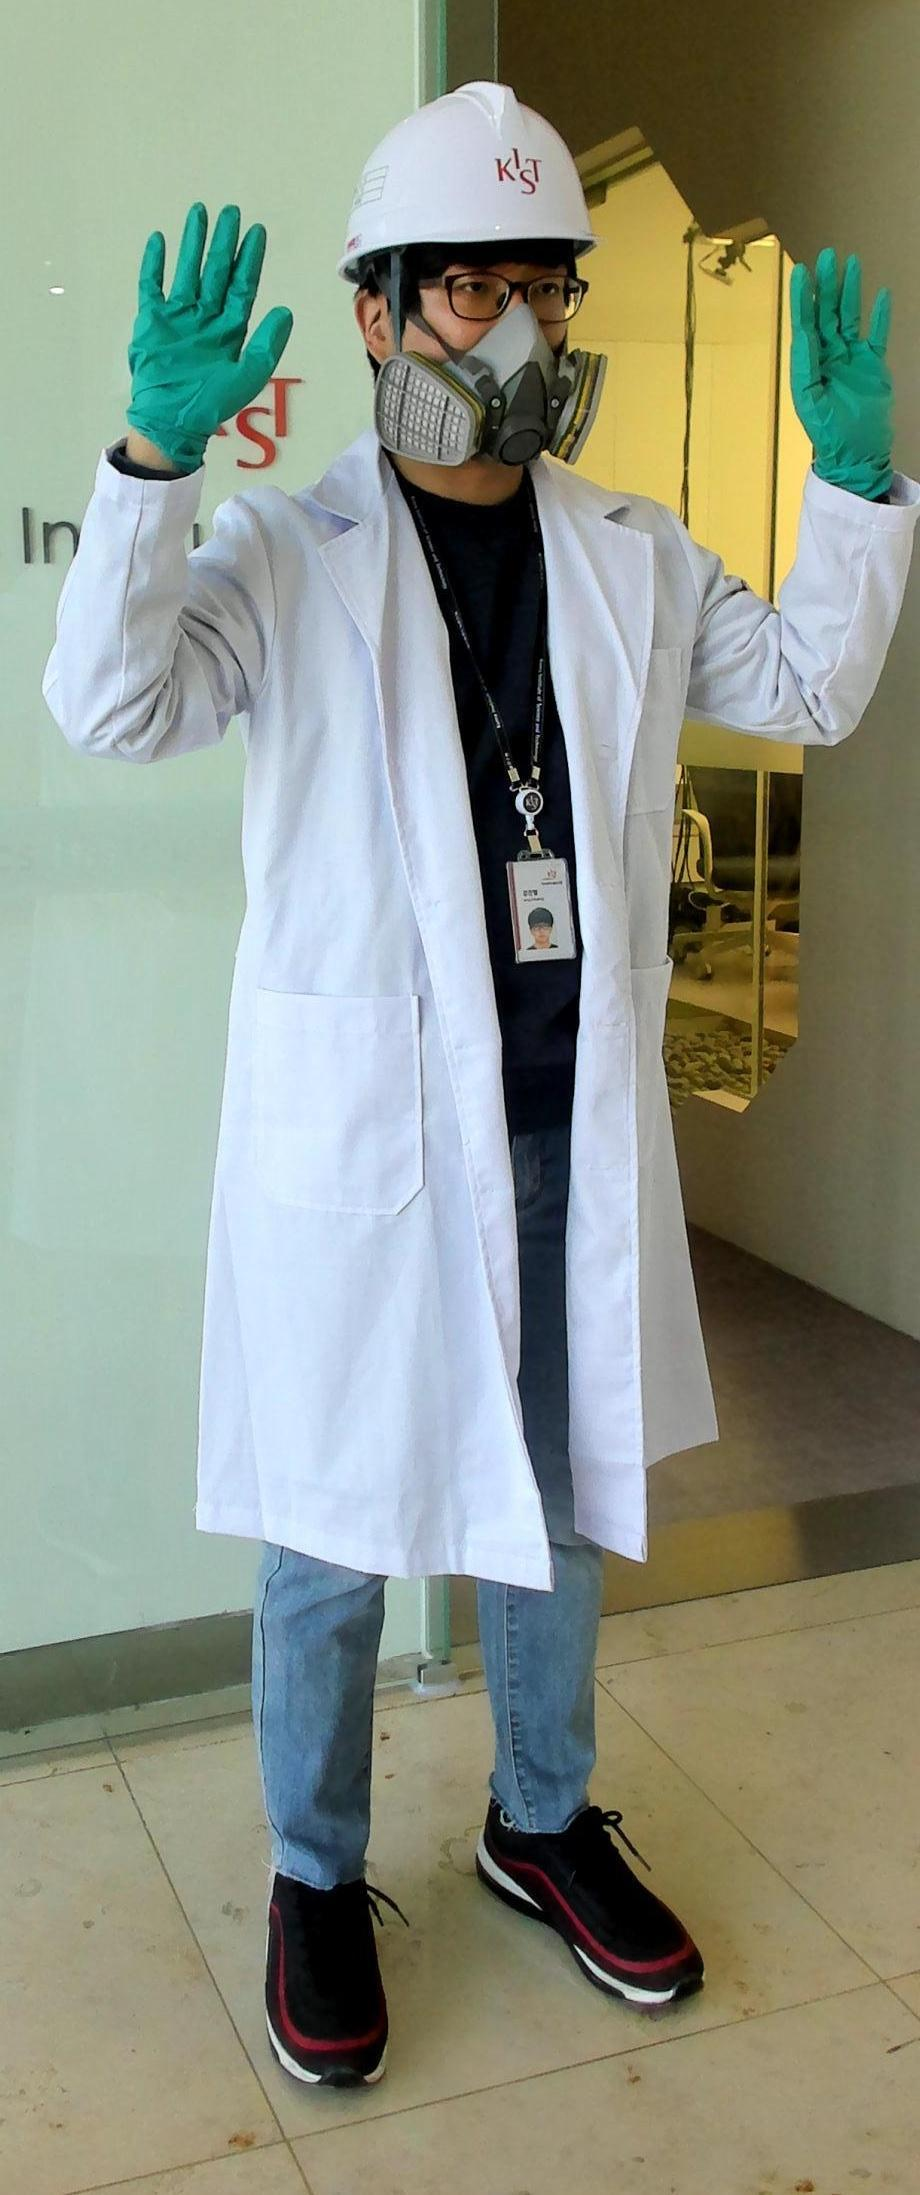lab_coat: (146, 526, 737, 1540)
